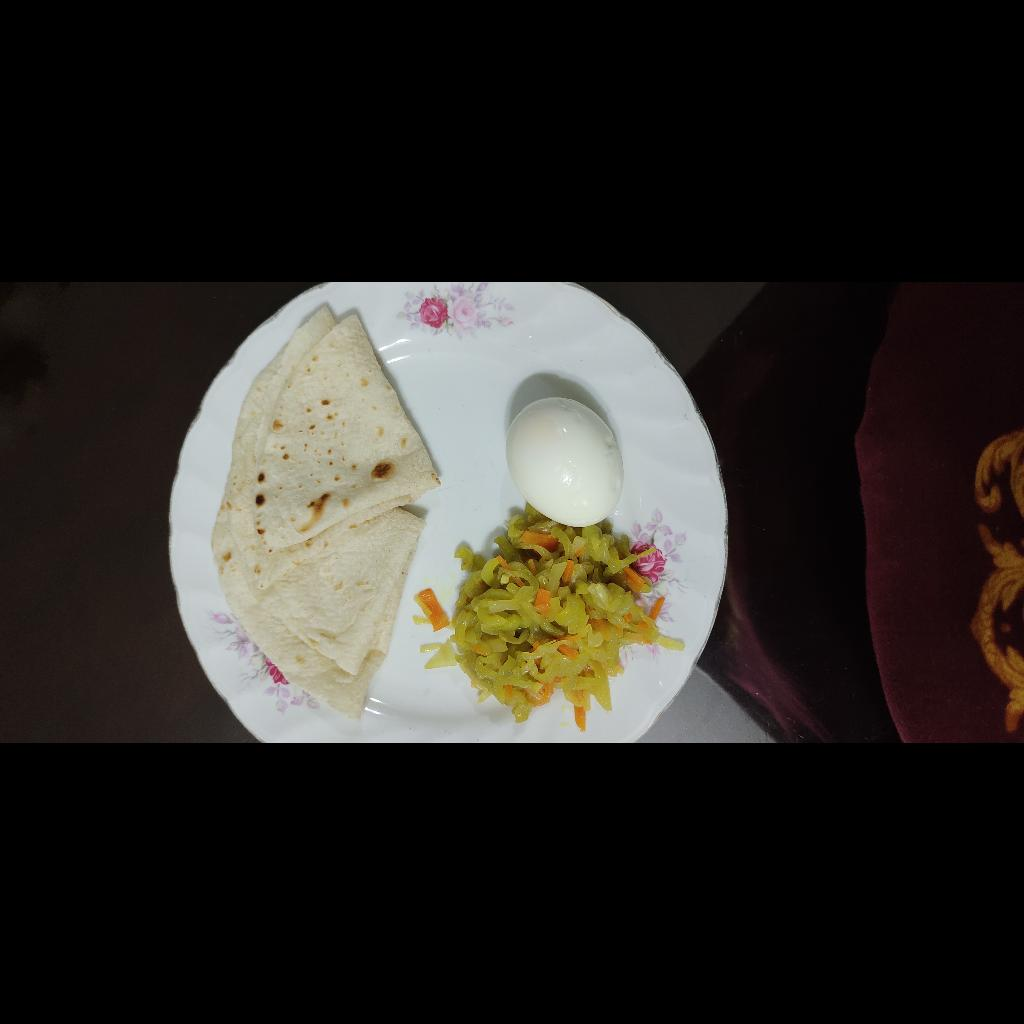chichinga-vaji: (11, 728, 239, 963)
egg-boiled: (215, 784, 346, 906)
ruti: (25, 493, 441, 725)
